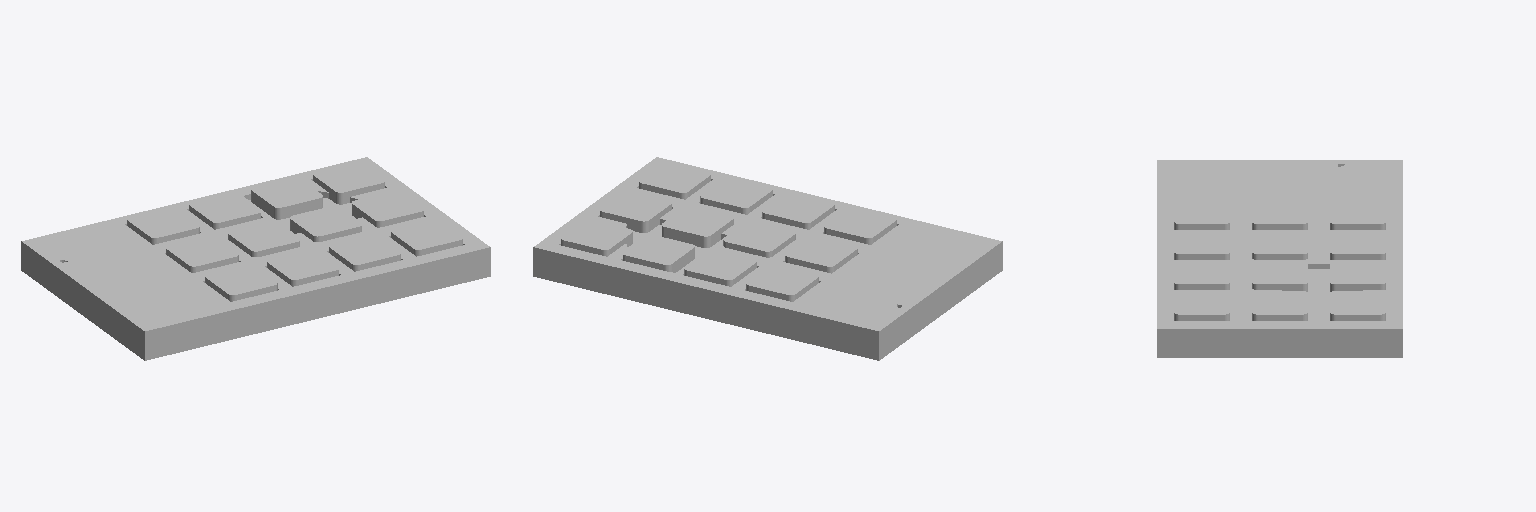
File: calculator.obj
3 views of the same model, side by side, from view 1: azimuth 30°, elevation 25°; view 2: azimuth 150°, elevation 25°; view 3: azimuth 270°, elevation 25° (orthographic).
Visible parts, largest first — view 1: Group_013, Group_011, Group_005, Group_010, Group_006, Group_004, Group_002, Group_001, Group_012, Group_003, Group_008, Group_009 (+2 smaller); view 2: Group_013, Group_006, Group_011, Group_005, Group_007, Group_004, Group_002, Group_001, Group_010, Group_012, Group_003, Group_008 (+2 smaller); view 3: Group_013, Group_005, Group_002, Group_011, Group_006, Group_004, Group_001, Group_010, Group_012, Group_008, Group_009, Group_003 (+3 smaller).
Boxes of the visible parts, x1,y1,x2,y2 form: Group_013: [21, 157, 490, 360]; Group_011: [251, 177, 322, 219]; Group_005: [166, 236, 238, 272]; Group_010: [313, 162, 384, 204]; Group_006: [352, 191, 423, 227]; Group_004: [267, 249, 338, 286]; Group_002: [391, 219, 462, 256]; Group_001: [205, 265, 277, 301]; Group_012: [189, 192, 260, 229]; Group_003: [329, 234, 400, 271]; Group_008: [228, 221, 299, 256]; Group_009: [127, 208, 199, 244]; Group_013: [533, 157, 1002, 360]; Group_006: [600, 191, 671, 232]; Group_011: [623, 235, 694, 272]; Group_005: [785, 236, 857, 273]; Group_007: [662, 206, 733, 247]; Group_004: [762, 193, 834, 229]; Group_002: [639, 162, 710, 199]; Group_001: [824, 208, 896, 244]; Group_010: [561, 219, 632, 256]; Group_012: [684, 250, 756, 286]; Group_003: [700, 177, 772, 214]; Group_008: [723, 221, 795, 257]; Group_013: [1157, 160, 1402, 357]; Group_005: [1252, 200, 1307, 229]; Group_002: [1174, 291, 1229, 320]; Group_011: [1330, 261, 1385, 291]; Group_006: [1252, 291, 1307, 320]; Group_004: [1174, 231, 1229, 259]; Group_001: [1174, 200, 1229, 229]; Group_010: [1330, 291, 1385, 320]; Group_012: [1330, 231, 1385, 259]; Group_008: [1252, 231, 1307, 259]; Group_009: [1330, 200, 1385, 229]; Group_003: [1174, 261, 1229, 289].
Size of the model in its own units: 24.21 by 2.36 by 14.96.